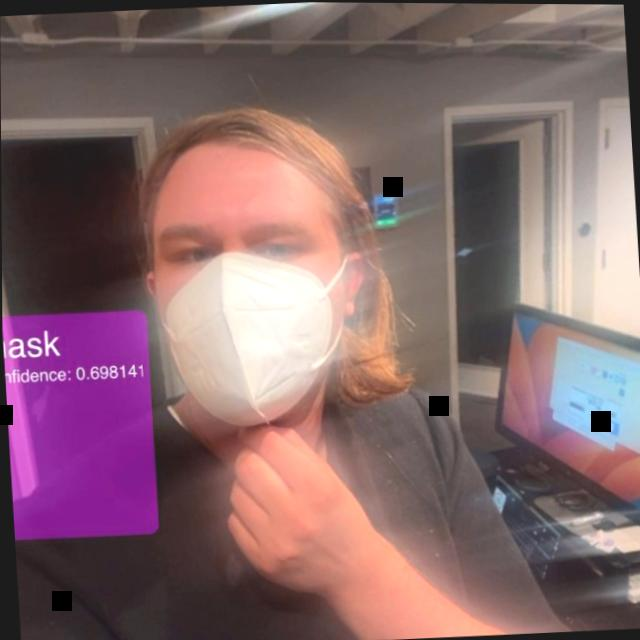Mask: (117, 79, 392, 452)
